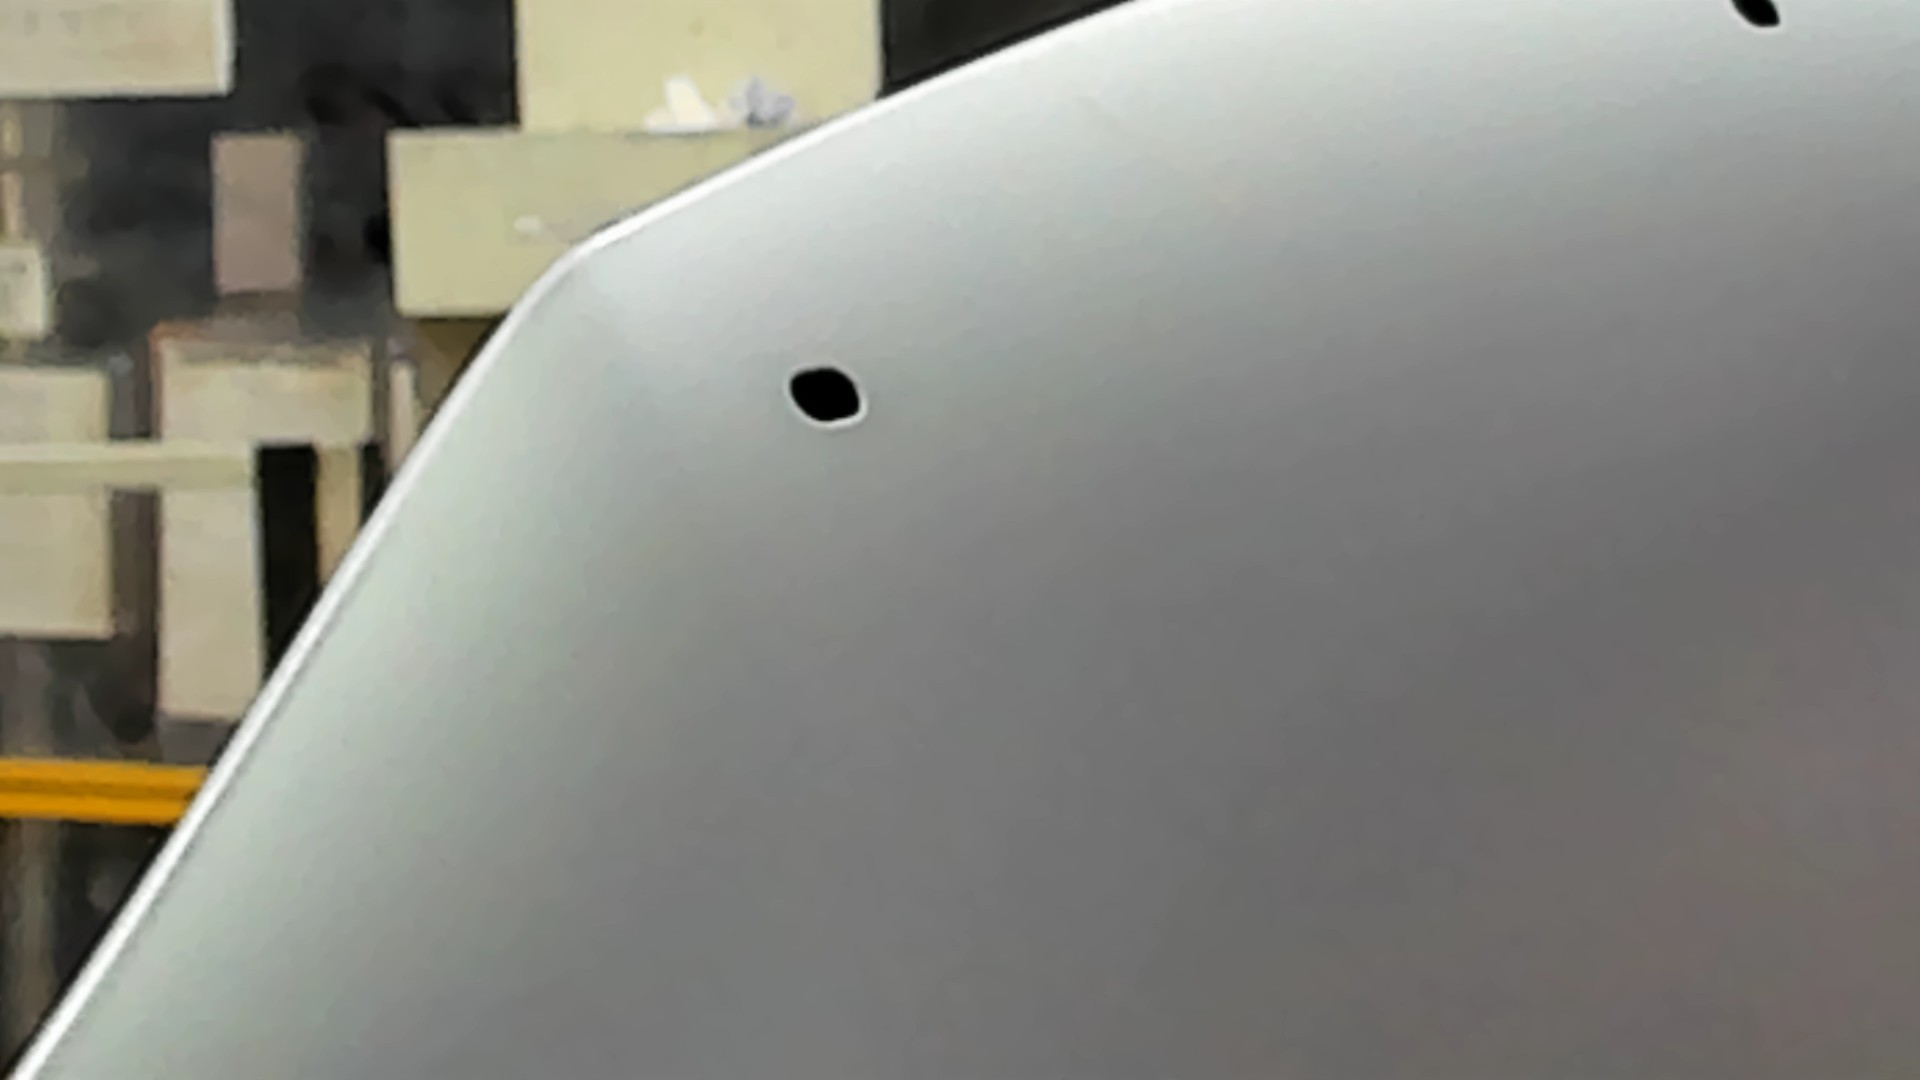amorfo: (783, 361, 872, 435), (1730, 1, 1785, 32)
